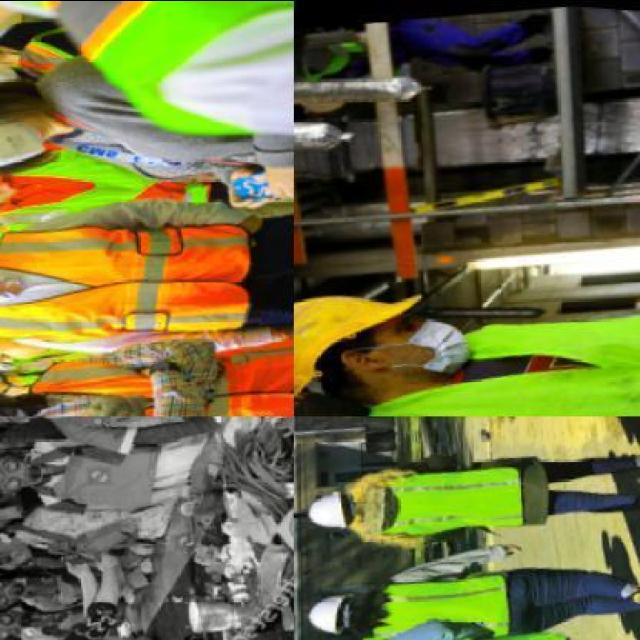helmet: (282, 289, 420, 381), (306, 590, 352, 634), (298, 494, 346, 532)
jacket: (358, 453, 531, 540), (378, 569, 515, 640)
